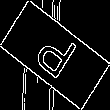P_SW: (29, 24, 81, 86)
